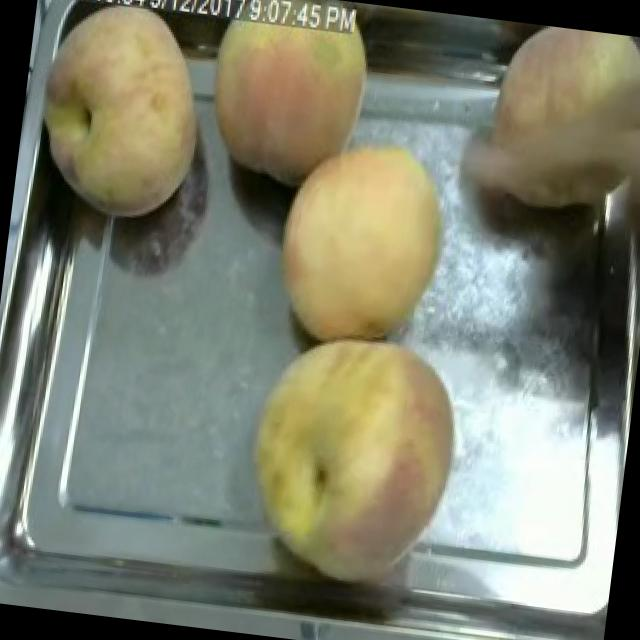Fruit: (224, 312, 478, 600), (257, 115, 467, 362), (27, 0, 228, 235), (456, 17, 640, 235), (188, 12, 387, 204)
